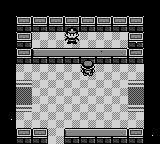main: (81, 61, 95, 75)
no-caminable: (1, 0, 160, 143), (14, 17, 145, 63), (32, 49, 126, 63), (63, 129, 127, 143), (17, 129, 47, 143), (128, 128, 143, 144)
npc: (64, 28, 79, 44)
puerta: (15, 76, 34, 114), (128, 77, 146, 114)
